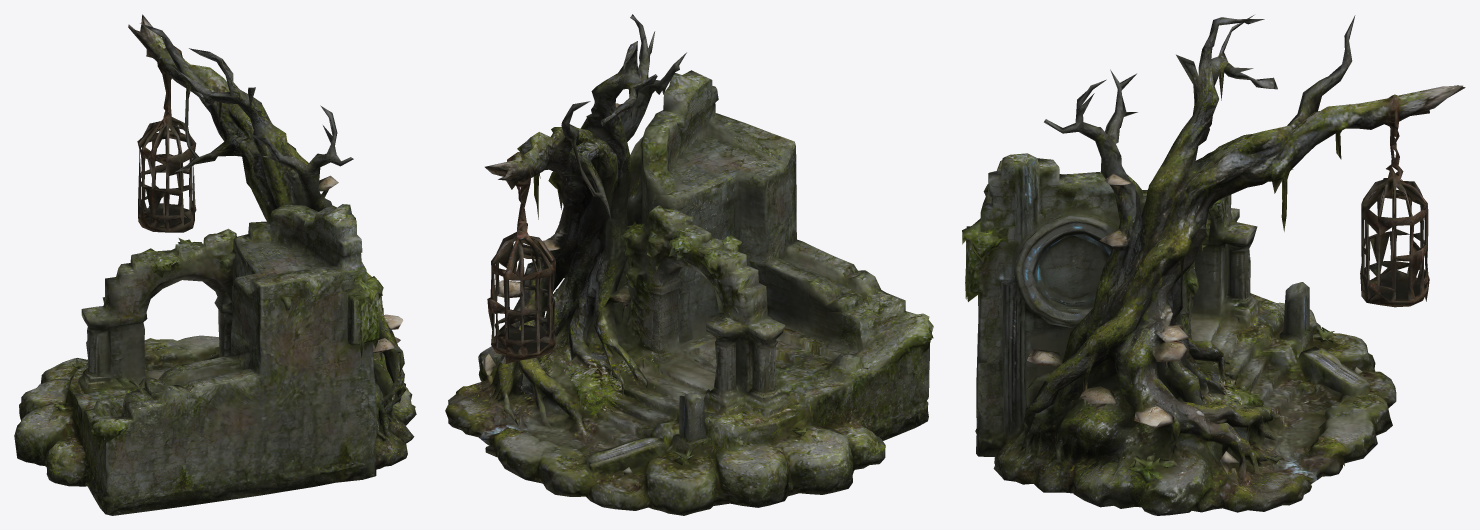
File: env_bw_gibbet.glb
The picture shows the model from 3 angles, left to right: view 1: azimuth 30°, elevation 25°; view 2: azimuth 150°, elevation 25°; view 3: azimuth 270°, elevation 25°; orthographic projection. The views are drawn at different scales.
Parts seen in each view (by area): view 1: tripo_node_0773e2da-1a8b-431c-9508-c0bf383974af; view 2: tripo_node_0773e2da-1a8b-431c-9508-c0bf383974af; view 3: tripo_node_0773e2da-1a8b-431c-9508-c0bf383974af.
Part boxes in pixels (x1,y1,x2,y2): tripo_node_0773e2da-1a8b-431c-9508-c0bf383974af: (14, 14, 416, 515); tripo_node_0773e2da-1a8b-431c-9508-c0bf383974af: (445, 14, 933, 515); tripo_node_0773e2da-1a8b-431c-9508-c0bf383974af: (962, 15, 1465, 515).
Size of the model in its own units: 0.9541 by 0.9017 by 1.
1 material, 1 textured.
